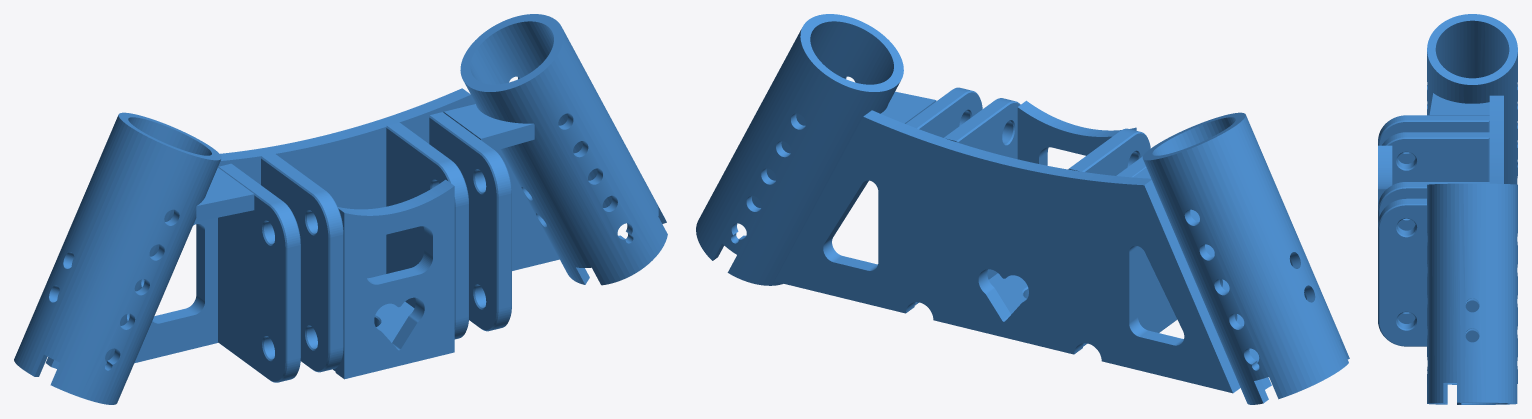
The model's file is aframe_v7.glb.
3 views of the same model, side by side, from view 1: azimuth 30°, elevation 25°; view 2: azimuth 150°, elevation 25°; view 3: azimuth 270°, elevation 25° (orthographic). The views are drawn at different scales.
Parts seen in each view (by area): view 1: c_02a, c_02b, c_01, c_04, c_03a, c_03d, c_03b, c_03c, c_06b, c_06a, c_05; view 2: c_01, c_02a, c_02b, c_04, c_03c, c_03a, c_03b, c_03d, c_06b, c_05; view 3: c_02b, c_02a, c_03d, c_03b, c_03a, c_01, c_03c, c_06a, c_04.
Part boxes in pixels (x1,y1,x2,y2): c_02a: (14,112,221,404); c_02b: (460,14,667,285); c_01: (134,88,559,363); c_04: (335,179,454,379); c_03a: (218,163,300,382); c_03d: (429,112,511,331); c_03b: (261,153,343,372); c_03c: (386,122,468,339); c_06b: (443,104,534,150); c_06a: (196,167,254,221); c_05: (333,301,414,371); c_01: (774,110,1240,393); c_02a: (1142,112,1349,404); c_02b: (696,14,903,285); c_04: (1017,100,1136,165); c_03c: (944,98,1020,279); c_03a: (1116,156,1177,332); c_03b: (1068,128,1150,346); c_03d: (906,87,982,305); c_06b: (880,91,936,123); c_05: (989,273,1028,314); c_02b: (1427,183,1517,404); c_02a: (1427,14,1517,184); c_03d: (1378,198,1479,346); c_03b: (1382,132,1489,184); c_03a: (1378,115,1489,163); c_01: (1489,95,1503,183); c_03c: (1378,182,1489,323); c_06a: (1429,93,1489,115); c_04: (1378,145,1392,323).
Bounding box in the file's own units: 417 × 165 × 97.75.
